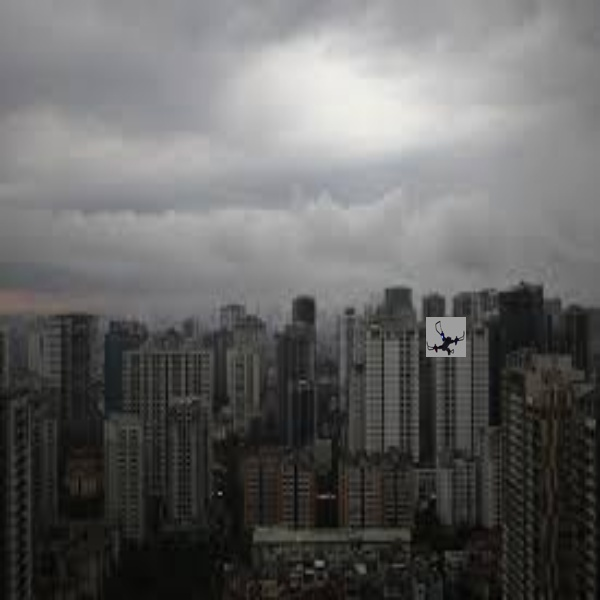drone: (427, 319, 469, 357)
